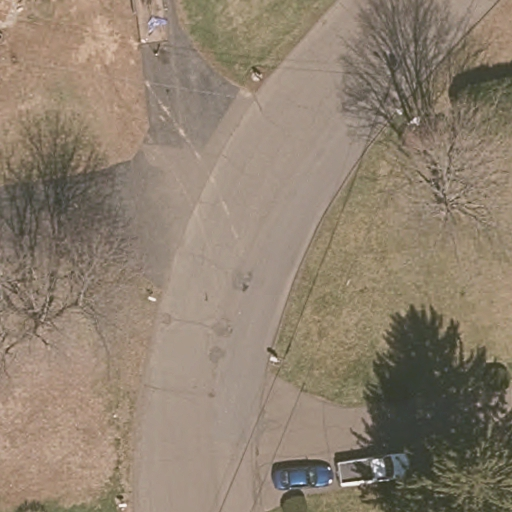DT: (390, 73, 421, 126)
